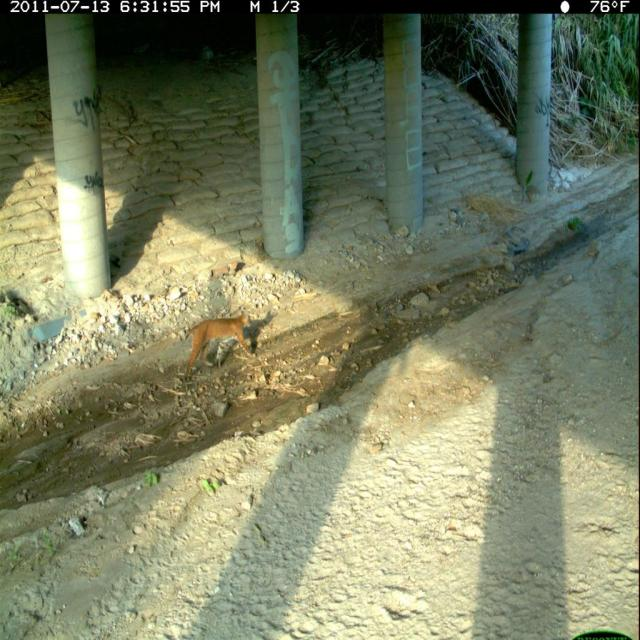bobcat: (182, 305, 258, 387)
